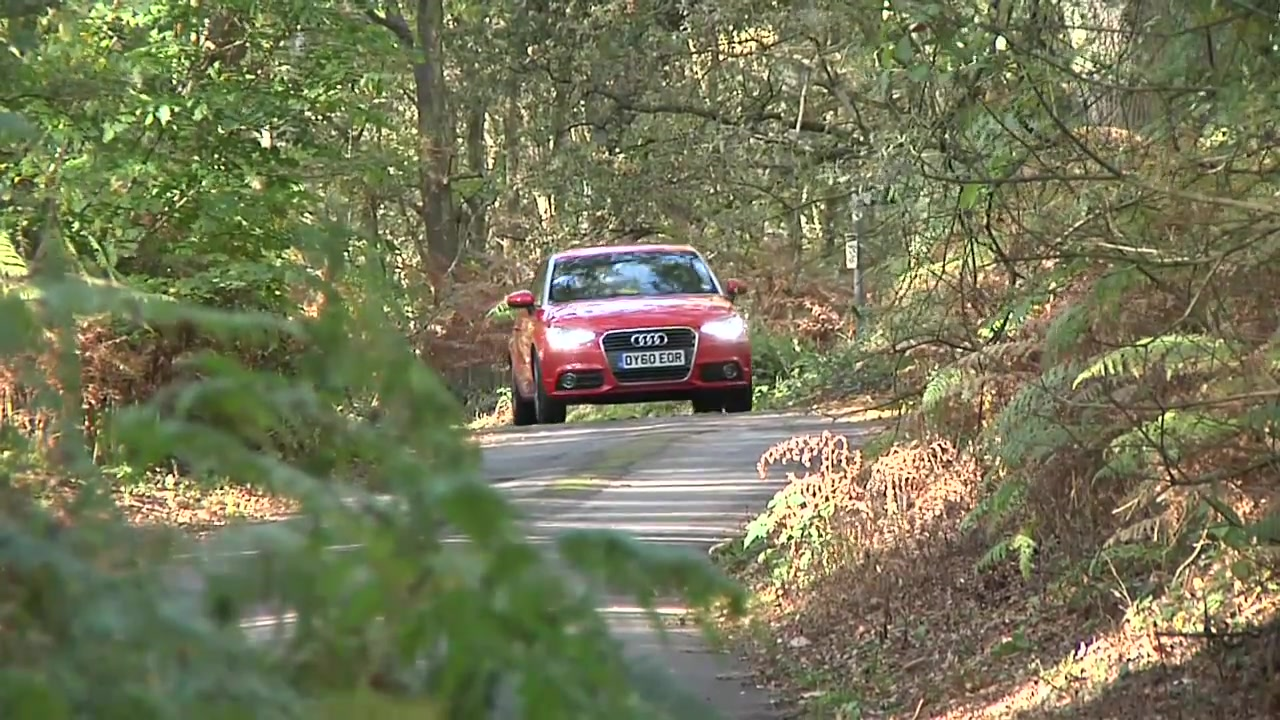car: (499, 244, 756, 417)
